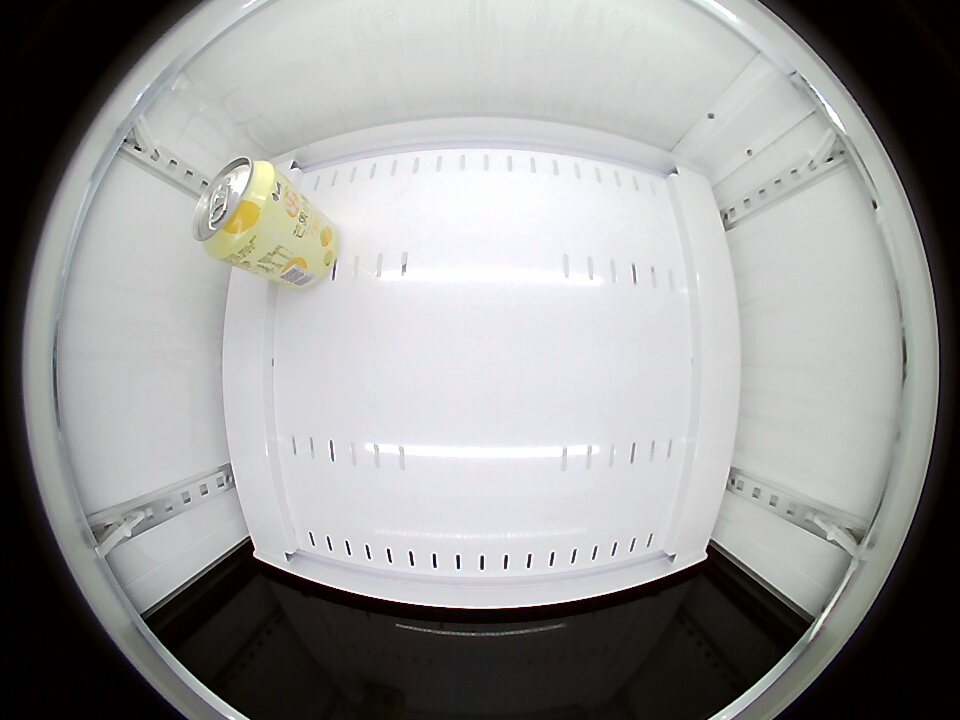mangguoxiaolao: (192, 156, 281, 260)
